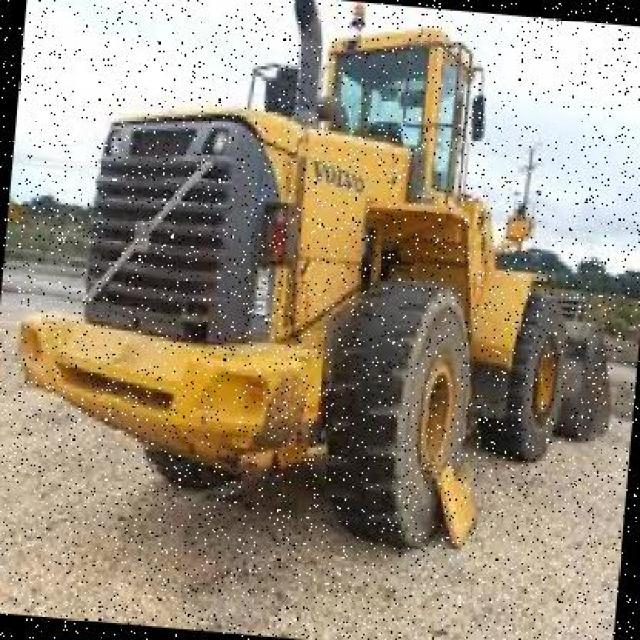buldozerpayloadergrader: (3, 0, 599, 551)
